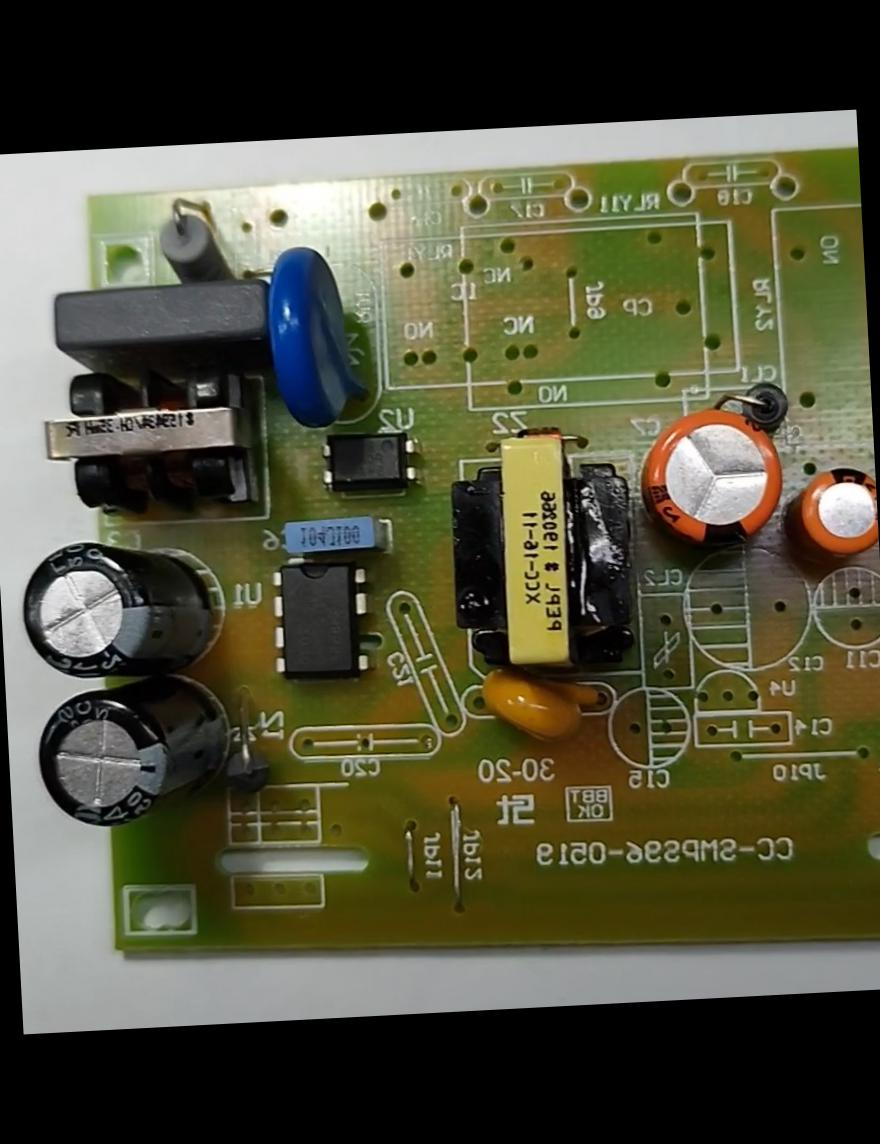Cap1: (638, 399, 792, 566)
Cap2: (789, 460, 879, 570)
Cap3: (15, 525, 238, 695)
Cap4: (28, 658, 256, 842)
MOSFET: (264, 549, 382, 689)
Mov: (255, 236, 384, 445)
Resistor: (142, 194, 250, 287)
Transformer: (446, 417, 644, 686), (35, 352, 263, 522)
